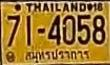0: (62, 14, 75, 44)
1: (26, 15, 30, 45)
4: (47, 14, 60, 44)
5: (77, 14, 90, 44)
7: (6, 14, 20, 46)
8: (92, 14, 104, 44)
SPK: (25, 47, 91, 63)
